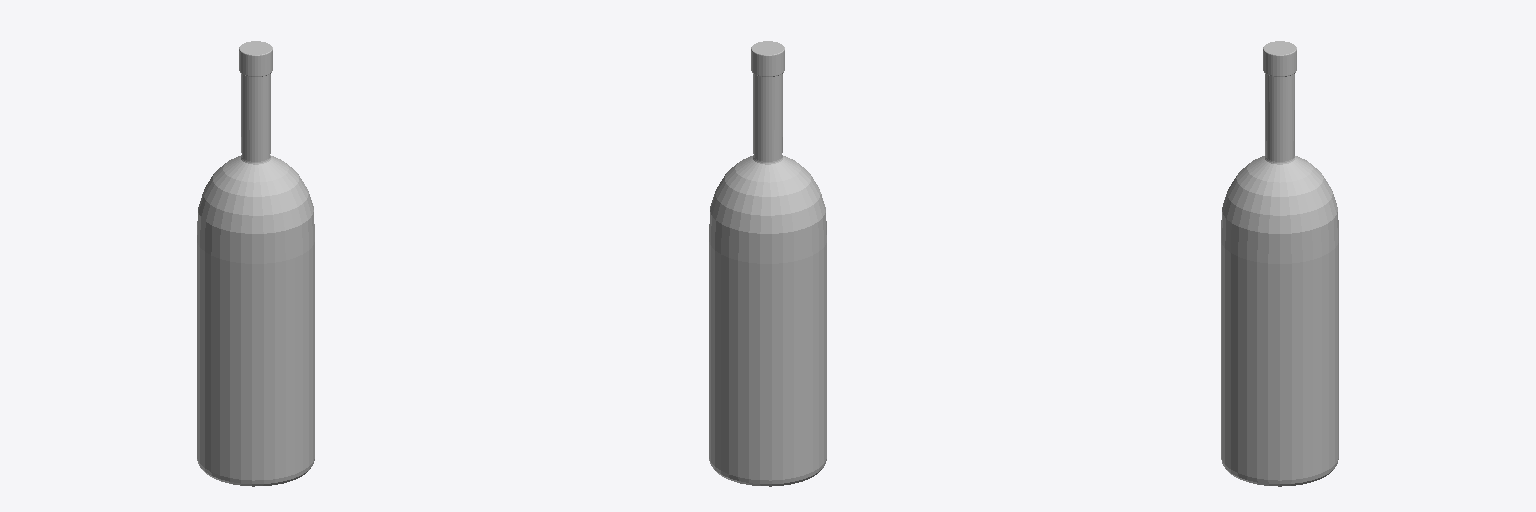
The model's file is Bottle2.obj.
3 views of the same model, side by side, from view 1: azimuth 30°, elevation 25°; view 2: azimuth 150°, elevation 25°; view 3: azimuth 270°, elevation 25° (orthographic).
Visible parts, largest first — view 1: Cylinder.001; view 2: Cylinder.001; view 3: Cylinder.001.
Boxes of the visible parts, x1=… form: Cylinder.001: x1=197, y1=41, x2=314, y2=486; Cylinder.001: x1=709, y1=41, x2=826, y2=486; Cylinder.001: x1=1221, y1=41, x2=1338, y2=486.
Size of the model in its own units: 0.2803 by 1.08 by 0.2803.